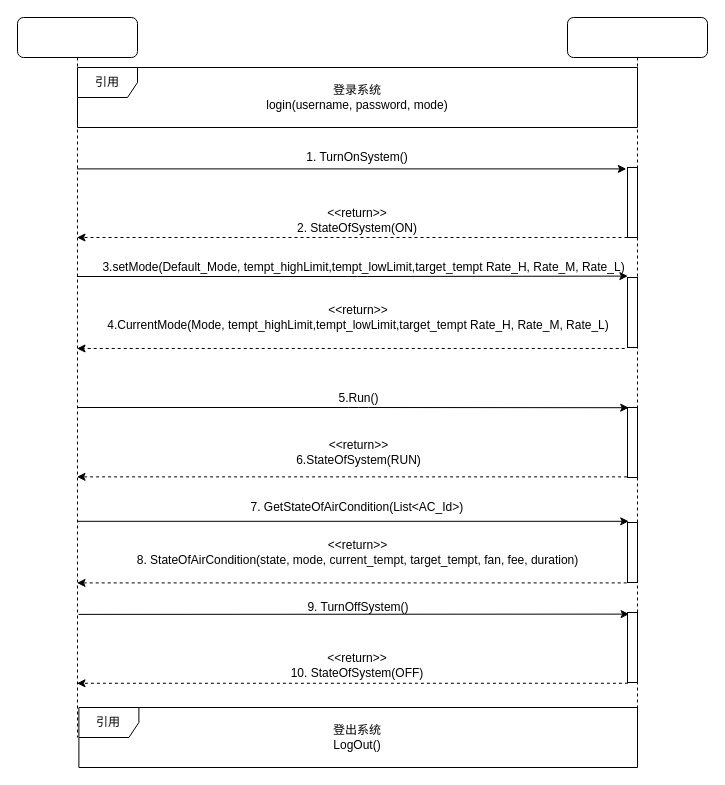
Image size: 725x785. Some labels were removed from this diagram. Here are the shapes that lost their labels. From the top down, the box of each, then its label:
(16, 16, 138, 738): : 空调管理员
(566, 16, 708, 738): ：系统
